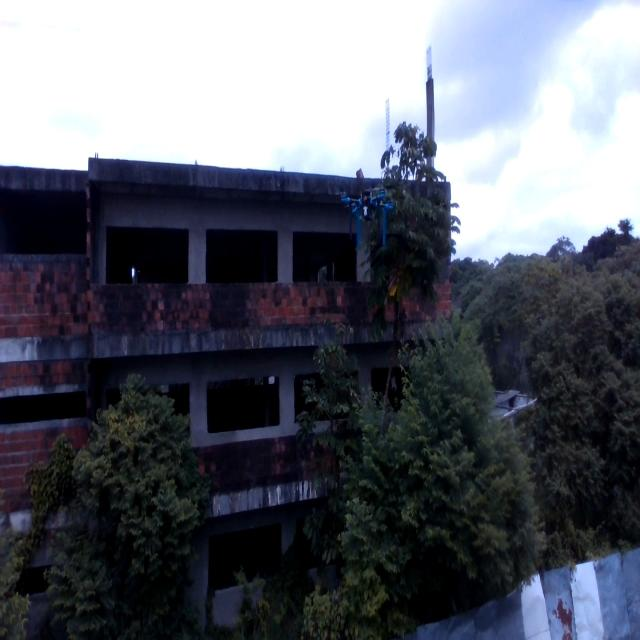-uav-: (332, 175, 402, 259)
